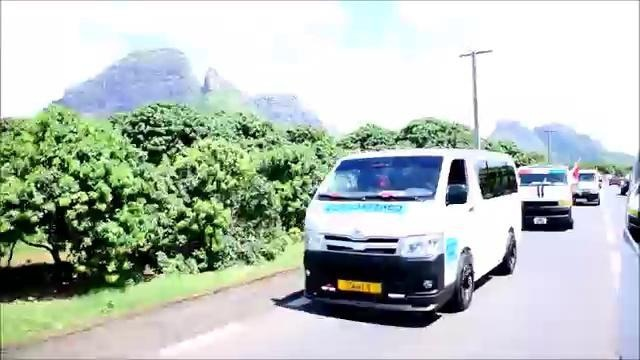van: (298, 152, 520, 318)
